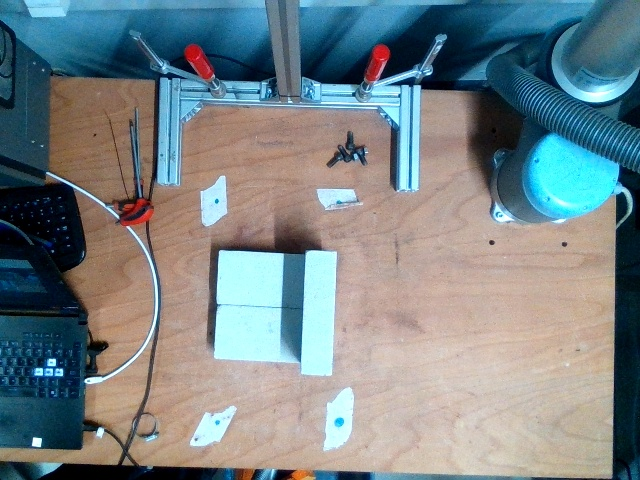brick-side: (299, 252, 337, 375)
